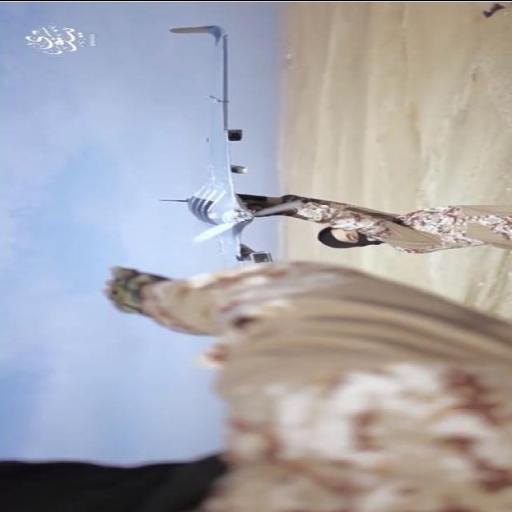uav: (160, 16, 278, 266)
